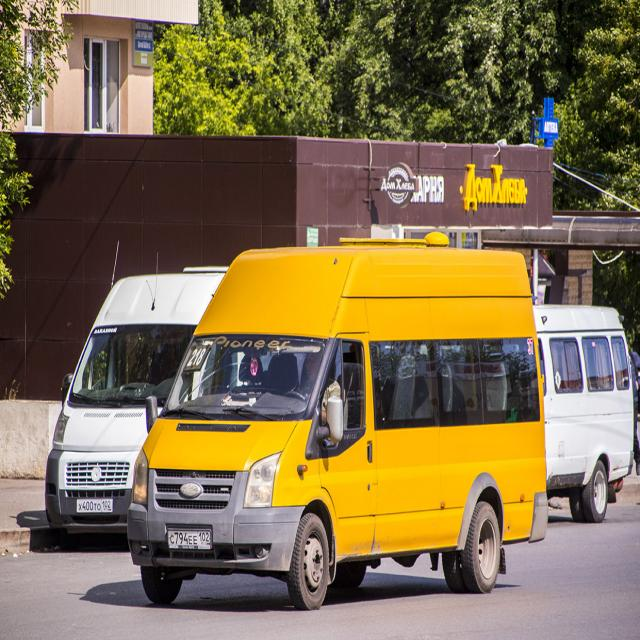number-of-bus: (187, 347, 210, 369)
